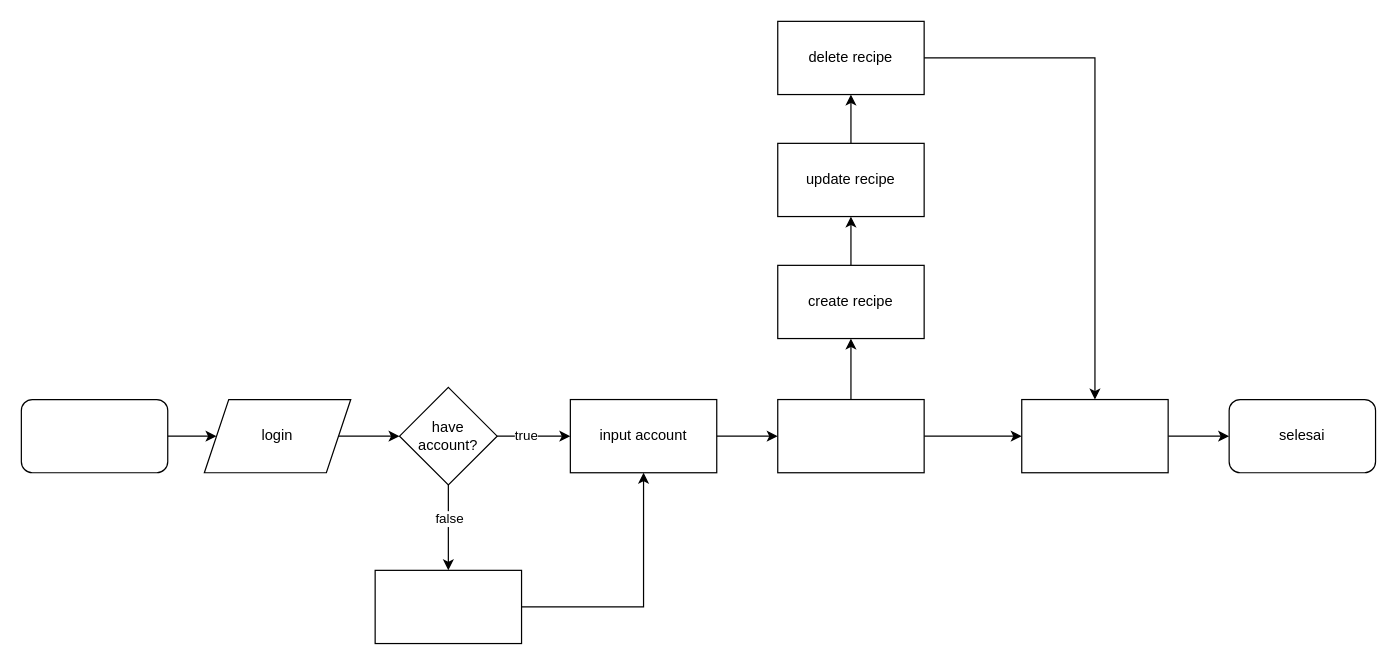
Some shapes in this 1397 by 665 pixel diagram are drawn without their labels. Each missing label, with the box of its shape:
logout: (1021, 398, 1168, 473)
mulai: (20, 398, 168, 473)
registrasi: (374, 569, 522, 644)
see recipe: (777, 398, 924, 473)
